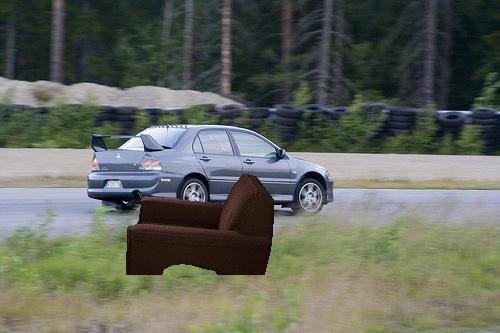tampered: (127, 175, 274, 275)
